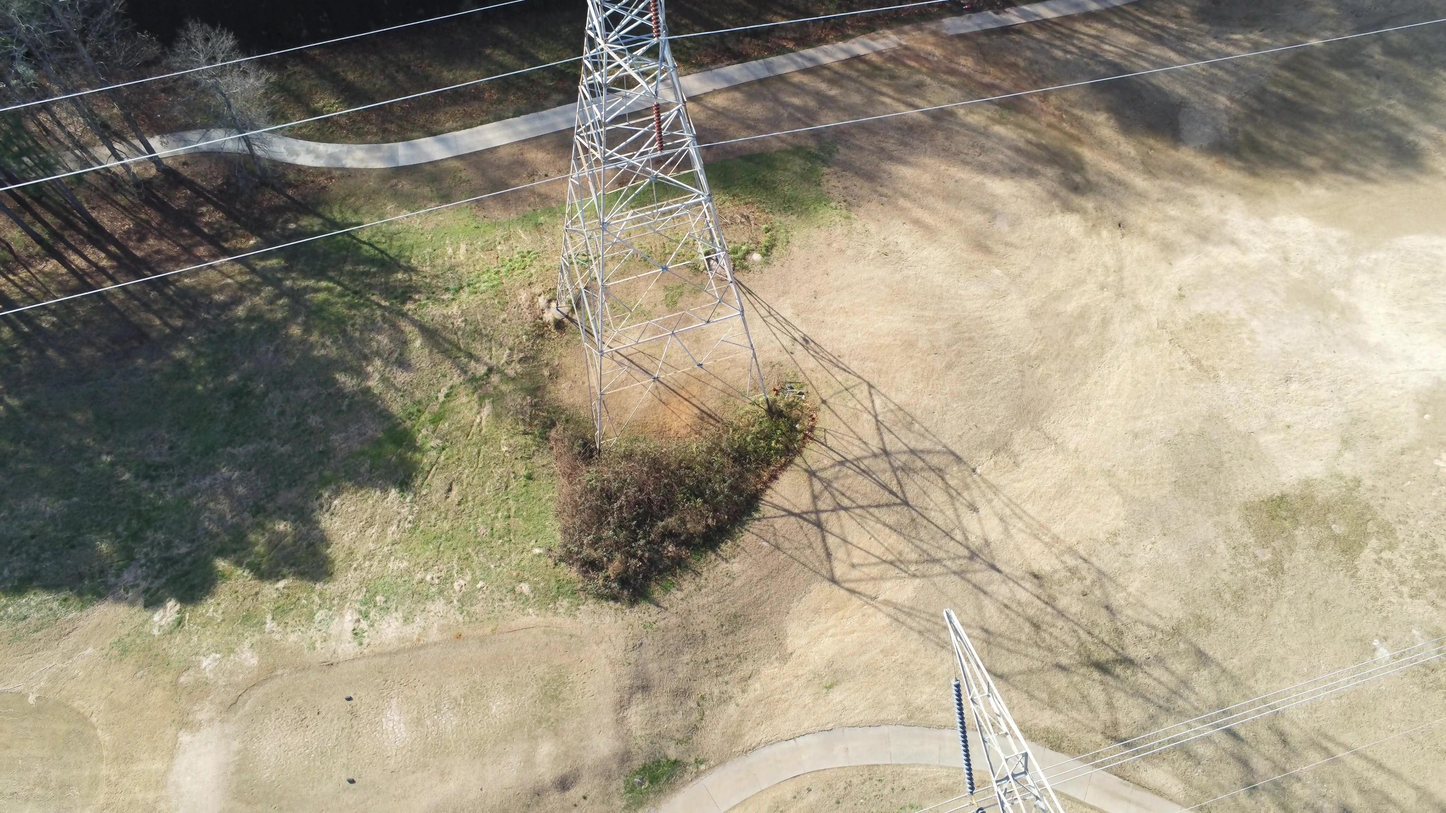power_tower: (552, 0, 770, 465), (943, 607, 1065, 813)
